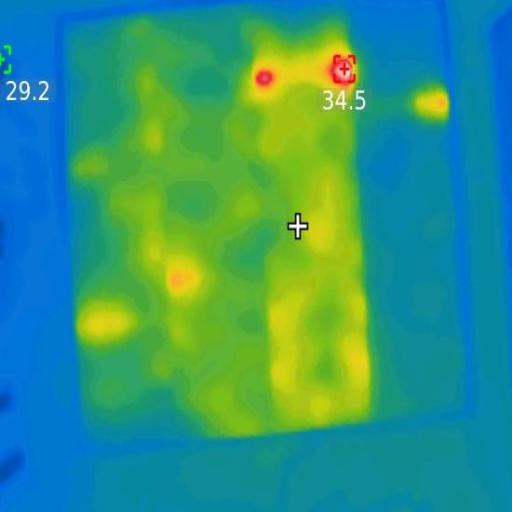hotspot: (330, 51, 358, 86), (255, 67, 277, 87)
